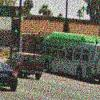buses: (21, 31, 99, 83)
